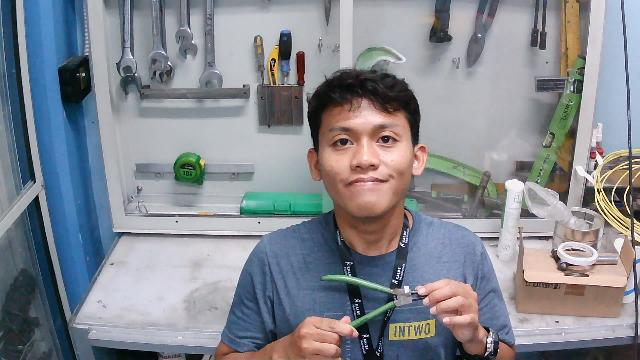tang_cucut_lancip_2: (315, 268, 434, 338)
